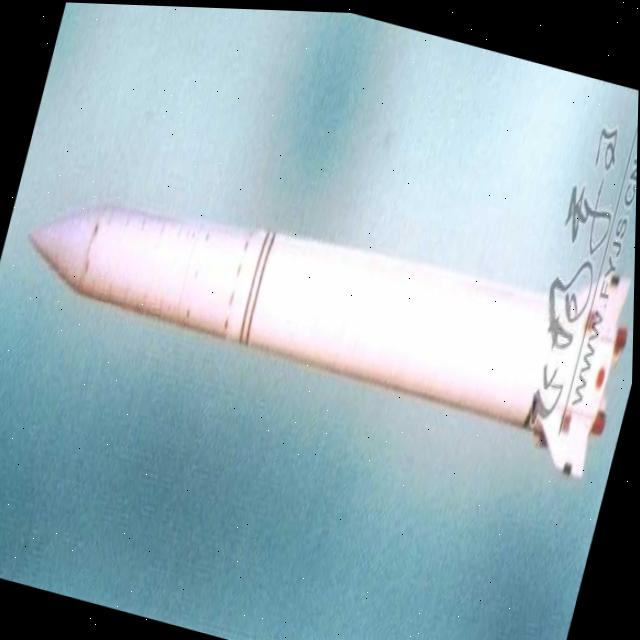missile: (4, 111, 638, 476)
